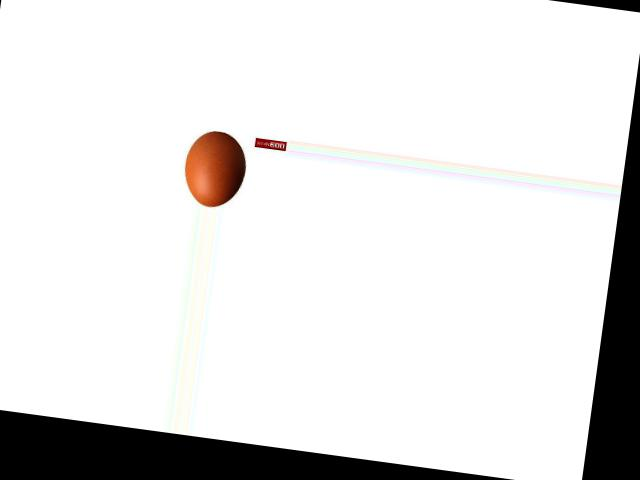egg: (180, 127, 249, 209)
